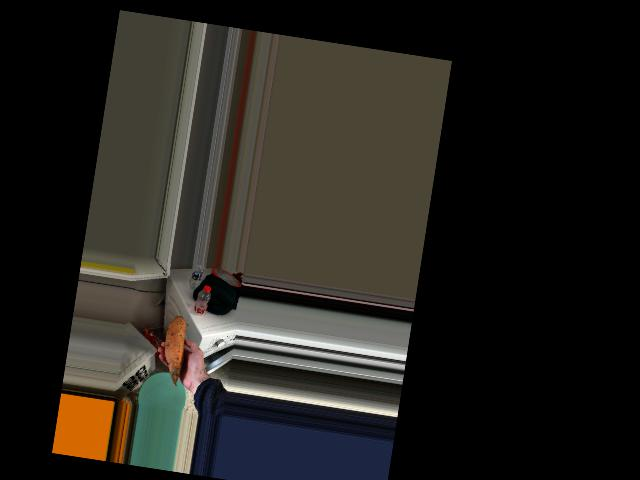sweet_potato: (163, 320, 190, 383)
